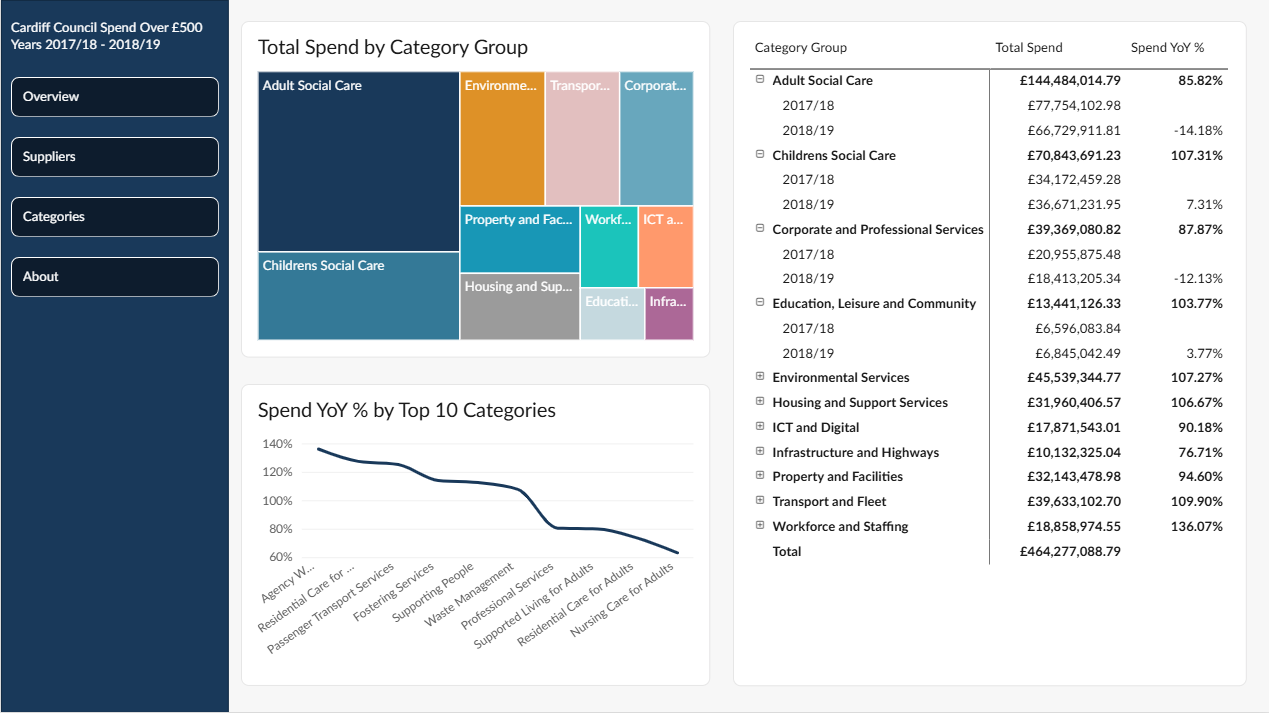

What the dashboard file says about the page in this screenshot:
{"tool":"powerbi","page":{"name":"Categories","canvas":[1280,720],"ordinal":2},"visuals":[{"type":"shape","title":"Shape_Menu background","box":[0,0,230,720],"z":0,"group":"g1"},{"type":"treemap","fields":{"Group":["DimCategoryGroup.CategoryGroup","DimCategory.Category"],"Values":["_Measures.Total Spend"]},"box":[242,21,474.1,339.5],"z":0},{"type":"actionButton","title":"Btn_Overview","box":[10.6,77.9,210,40.4],"z":1000,"group":"g1"},{"type":"lineChart","title":"Spend YoY % by Top 10 Categories","fields":{"Category":["DimCategory.Category"],"Y":["_Measures.Spend YoY %"]},"box":[242,387.7,474.1,304.9],"z":1000},{"type":"pivotTable","fields":{"Rows":["DimCategoryGroup.CategoryGroup","DimDate.Financial Year"],"Values":["_Measures.Total Spend","_Measures.Spend YoY %"]},"box":[739.5,21,518.5,671.6],"z":2000},{"type":"actionButton","title":"Btn_Suppliers","box":[10.6,138.6,210,40.4],"z":2000,"group":"g1"},{"type":"group","id":"g1","title":"Navigation","box":[0,0,230,720],"z":3000},{"type":"actionButton","title":"Btn_Categories","box":[10.6,199.3,210,40.4],"z":3000,"group":"g1"},{"type":"actionButton","title":"Btn_About","box":[10.6,260,210,40.4],"z":4000,"group":"g1"},{"type":"textbox","title":"Report_Title","box":[10.1,20,210.1,41.4],"z":5000,"group":"g1"}]}

Visuals, with their boxes in screenshot pixels (x1, y1, x2, y2), scaled from the page's 1280x720 canvas onto the 1269x713 screenshot:
"Shape_Menu background" shape: (left=0, top=0, right=228, bottom=712)
treemap - DimCategoryGroup.CategoryGroup x DimCategory.Category: (left=240, top=21, right=710, bottom=357)
"Btn_Overview" actionButton: (left=11, top=77, right=219, bottom=117)
"Spend YoY % by Top 10 Categories" lineChart: (left=240, top=384, right=710, bottom=686)
pivotTable - DimCategoryGroup.CategoryGroup x DimDate.Financial Year: (left=733, top=21, right=1247, bottom=686)
"Btn_Suppliers" actionButton: (left=11, top=137, right=219, bottom=177)
"Navigation" group: (left=0, top=0, right=228, bottom=712)
"Btn_Categories" actionButton: (left=11, top=197, right=219, bottom=237)
"Btn_About" actionButton: (left=11, top=257, right=219, bottom=297)
"Report_Title" textbox: (left=10, top=20, right=218, bottom=61)
